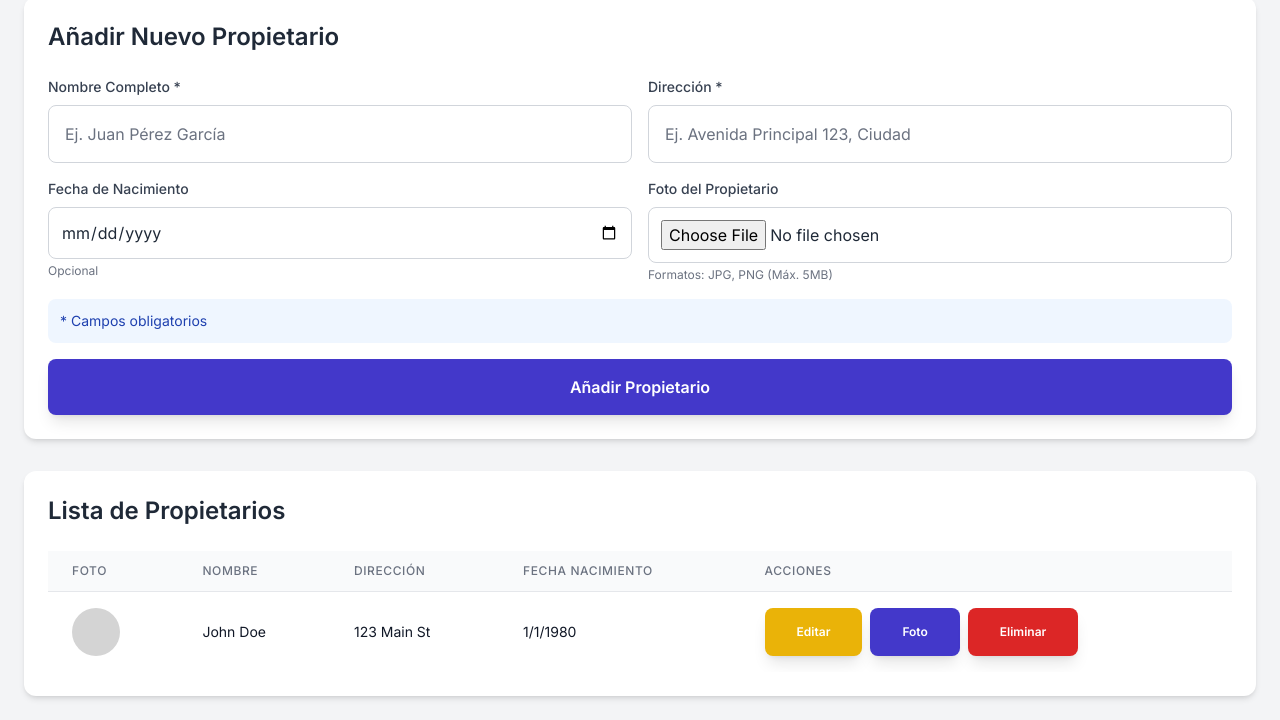
Scenario: OwnerManagement Component › should display delete confirmation modal when delete button is clicked
(page scrolled)
expect the text "John Doe" is shown: met, box [178,592,330,672]
Note: Buscar y hacer clic en el botón de eliminar
Click the button "Eliminar": (1023, 632) [968,608,1078,656]
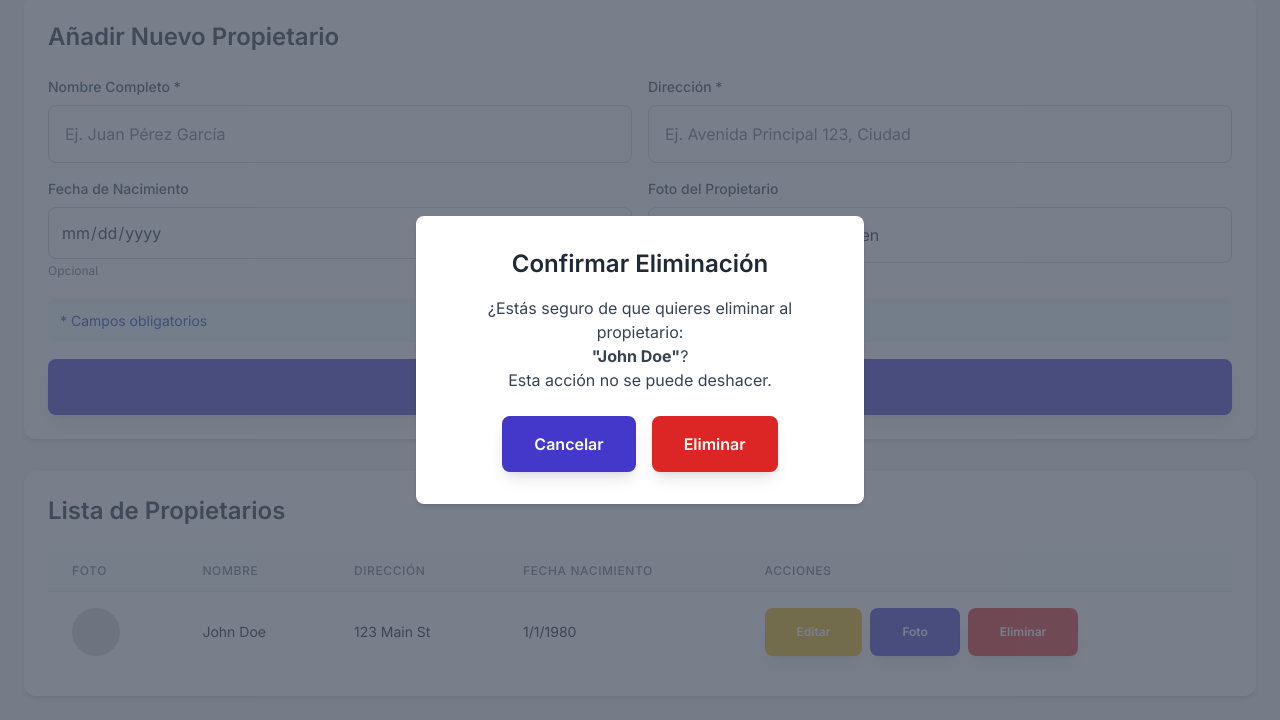
expect the heading "Confirmar Eliminación" is shown: met, box [512,249,768,278]
